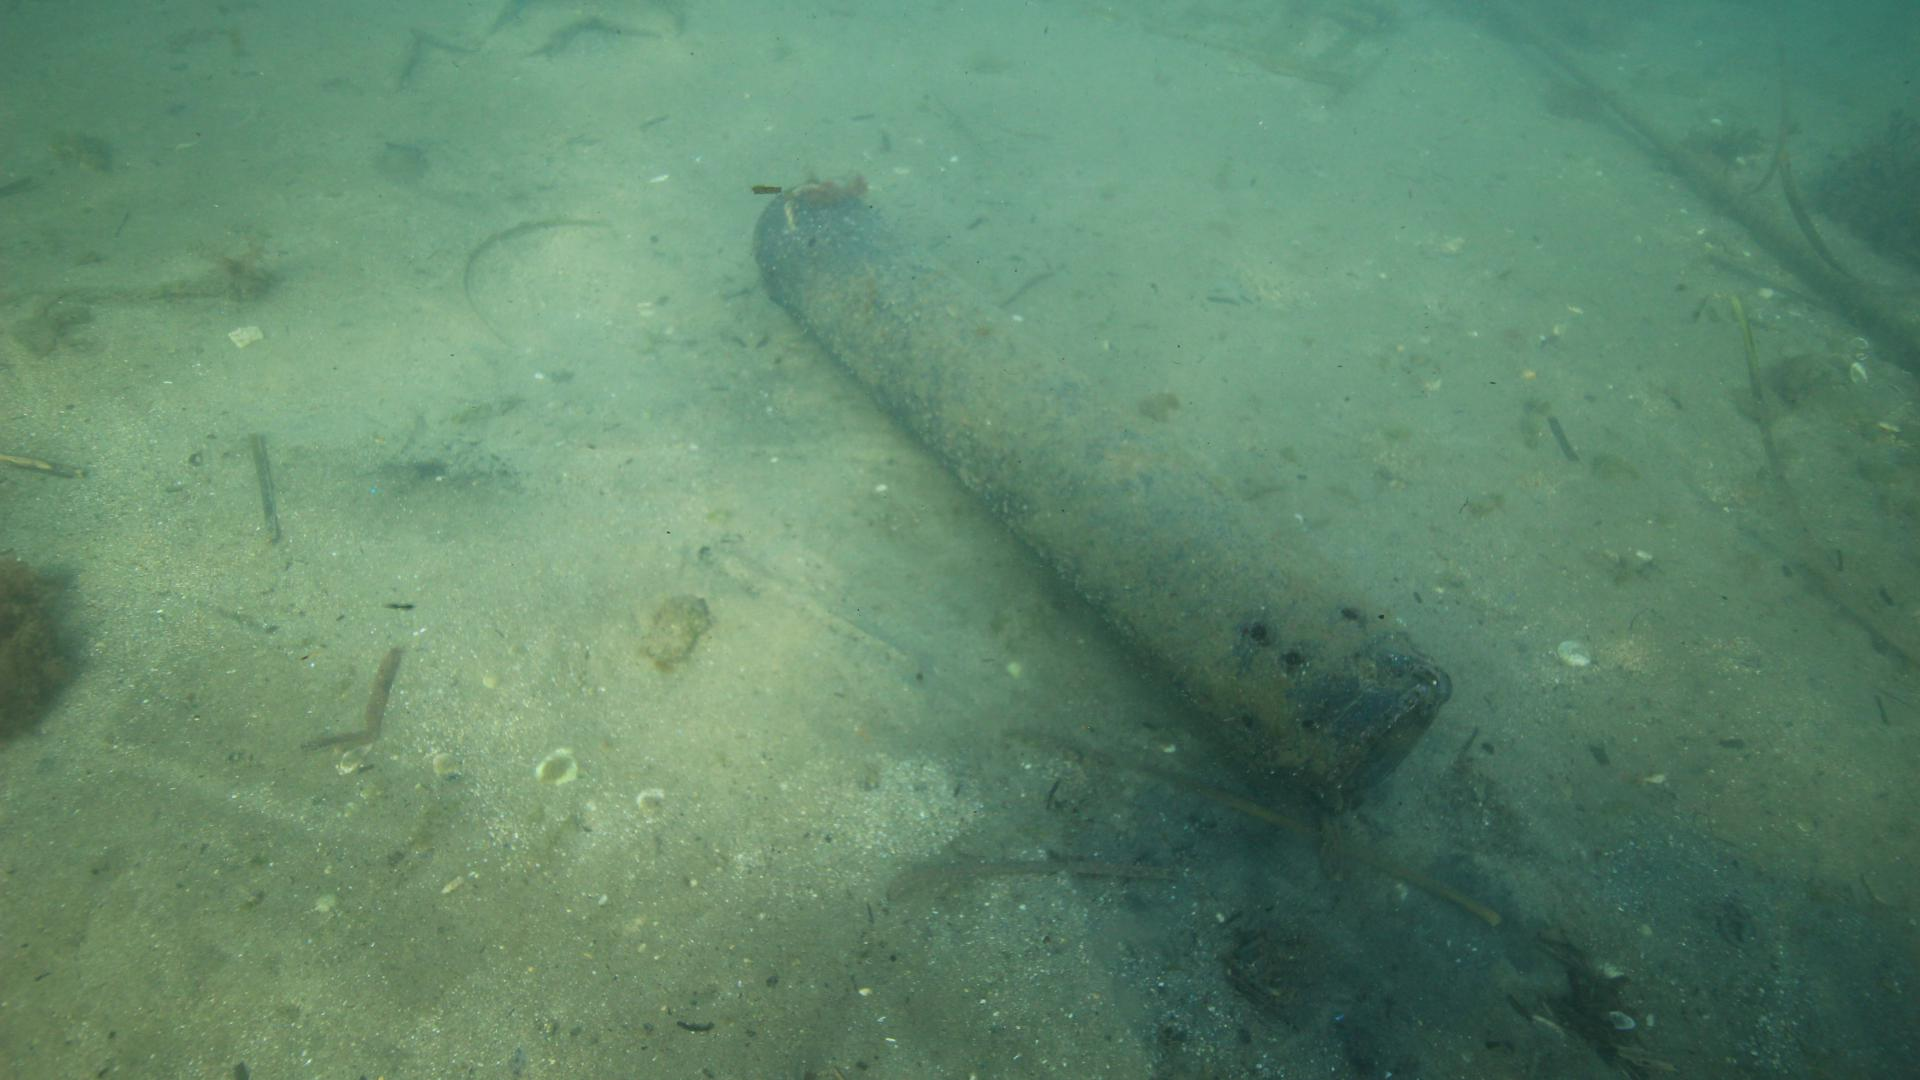eel fish trap: (750, 178, 1455, 811)
rope: (1503, 0, 1920, 356), (781, 179, 832, 233)
